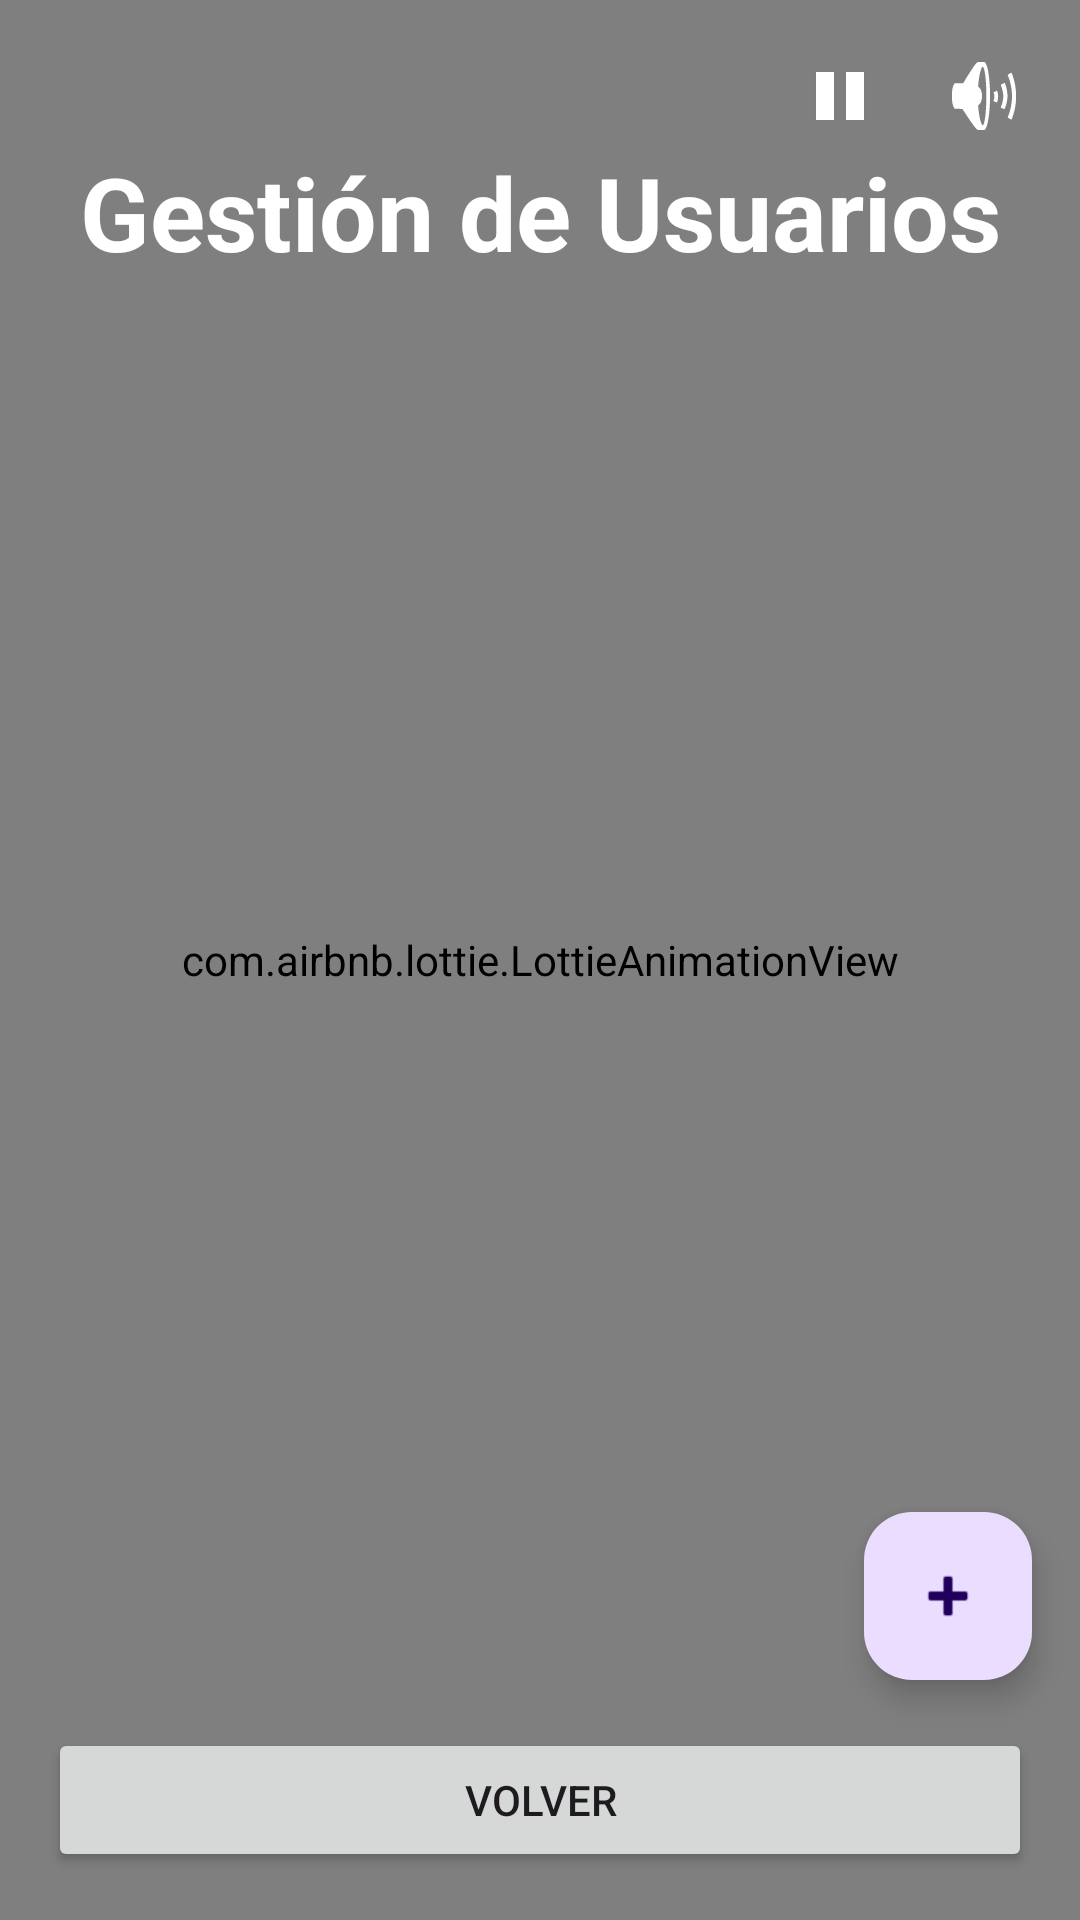

Screen size 1080px x 1920px. Icon name, then its box in pixels as (x1, y1, x2, y2):
add: (864, 1512, 1032, 1680)
pause: (816, 72, 864, 120)
